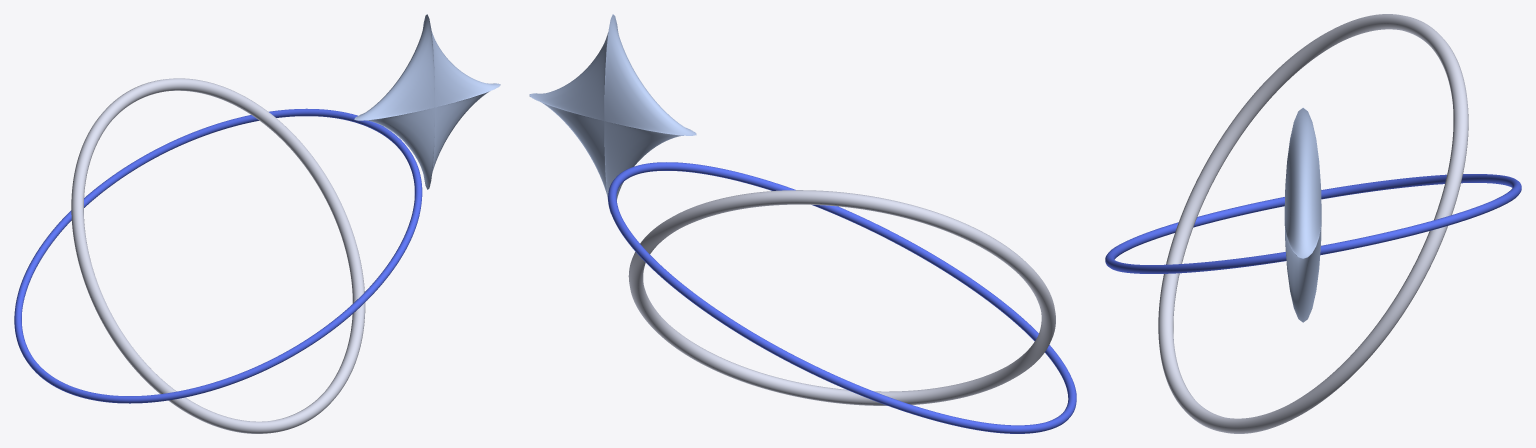
File: orbital.glb
The picture shows the model from 3 angles, left to right: view 1: azimuth 30°, elevation 25°; view 2: azimuth 150°, elevation 25°; view 3: azimuth 270°, elevation 25°; orthographic projection. The views are drawn at different scales.
Visible parts, largest first — view 1: Orbital / polished equator.001, Orbital / luminous orbit.001, Orbital / north star.001; view 2: Orbital / polished equator.001, Orbital / north star.001, Orbital / luminous orbit.001; view 3: Orbital / polished equator.001, Orbital / luminous orbit.001, Orbital / north star.001.
Boxes of the visible parts, x1,y1,x2,y2 form: Orbital / polished equator.001: (71, 78, 365, 433); Orbital / luminous orbit.001: (14, 108, 422, 403); Orbital / north star.001: (354, 14, 500, 189); Orbital / polished equator.001: (628, 190, 1055, 405); Orbital / north star.001: (529, 14, 696, 213); Orbital / luminous orbit.001: (608, 162, 1076, 433); Orbital / polished equator.001: (1158, 14, 1468, 433); Orbital / luminous orbit.001: (1105, 174, 1521, 273); Orbital / north star.001: (1284, 107, 1321, 322).
Bounding box in the file's own units: 6.34 × 4.35 × 4.03.
